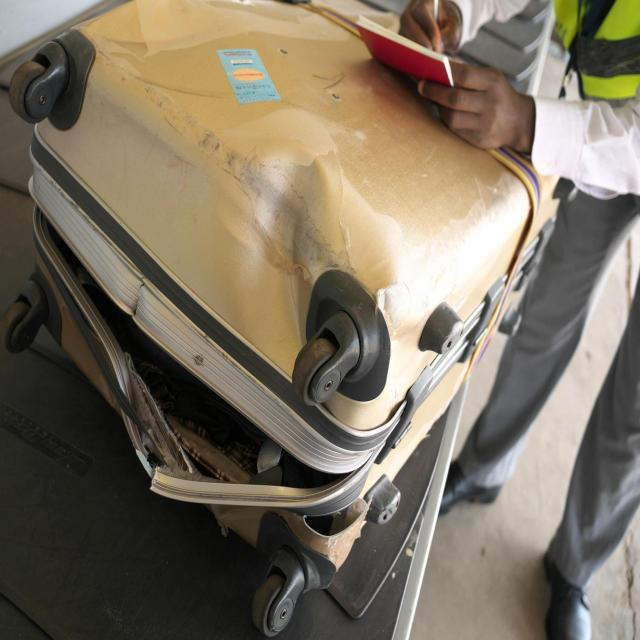Damage-bag: (32, 198, 375, 589), (240, 158, 355, 340), (375, 276, 411, 336)
